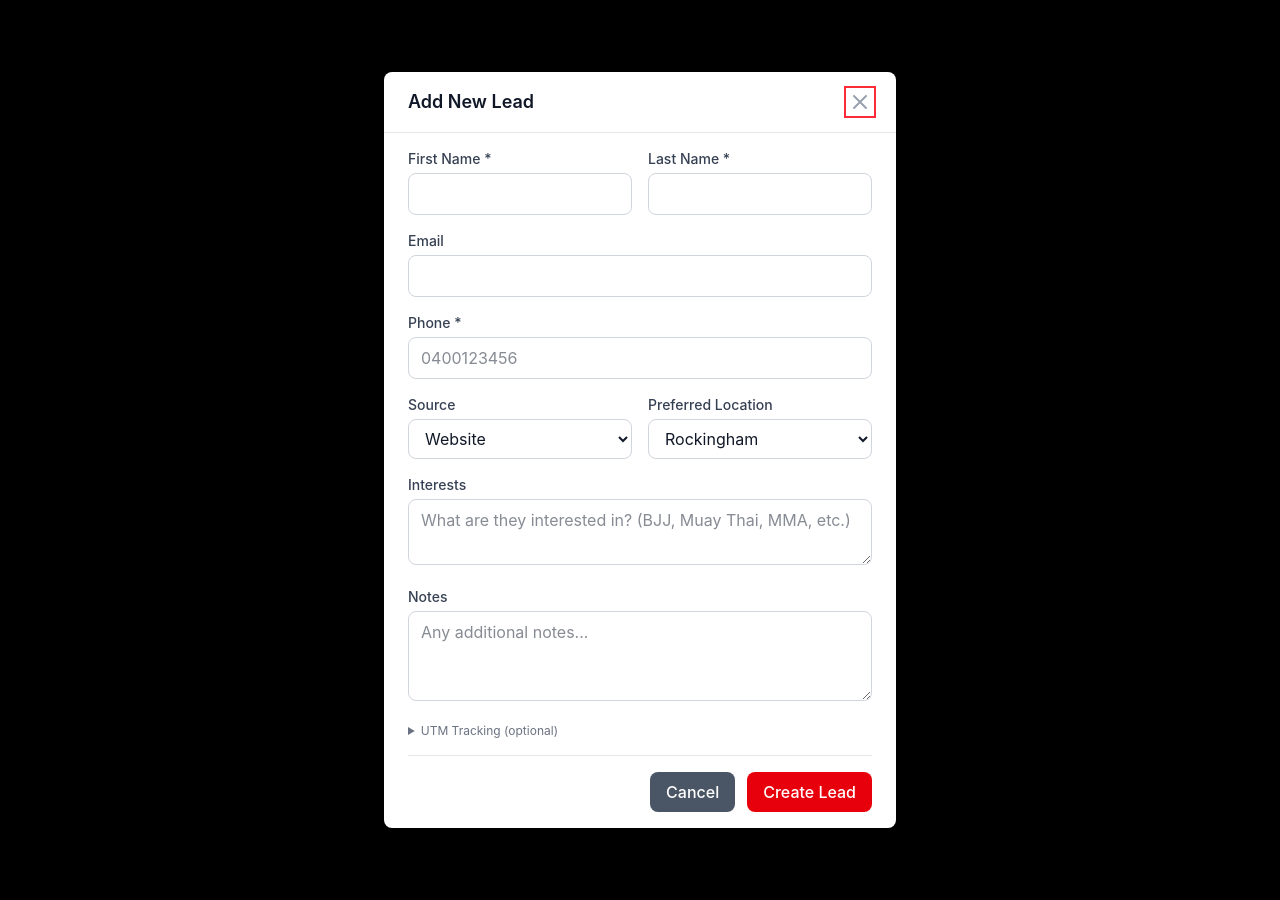
Test: AddLeadModal › clears field error on change
Click the button "Create Lead". click: (810, 792)
box: [747, 772, 872, 812]
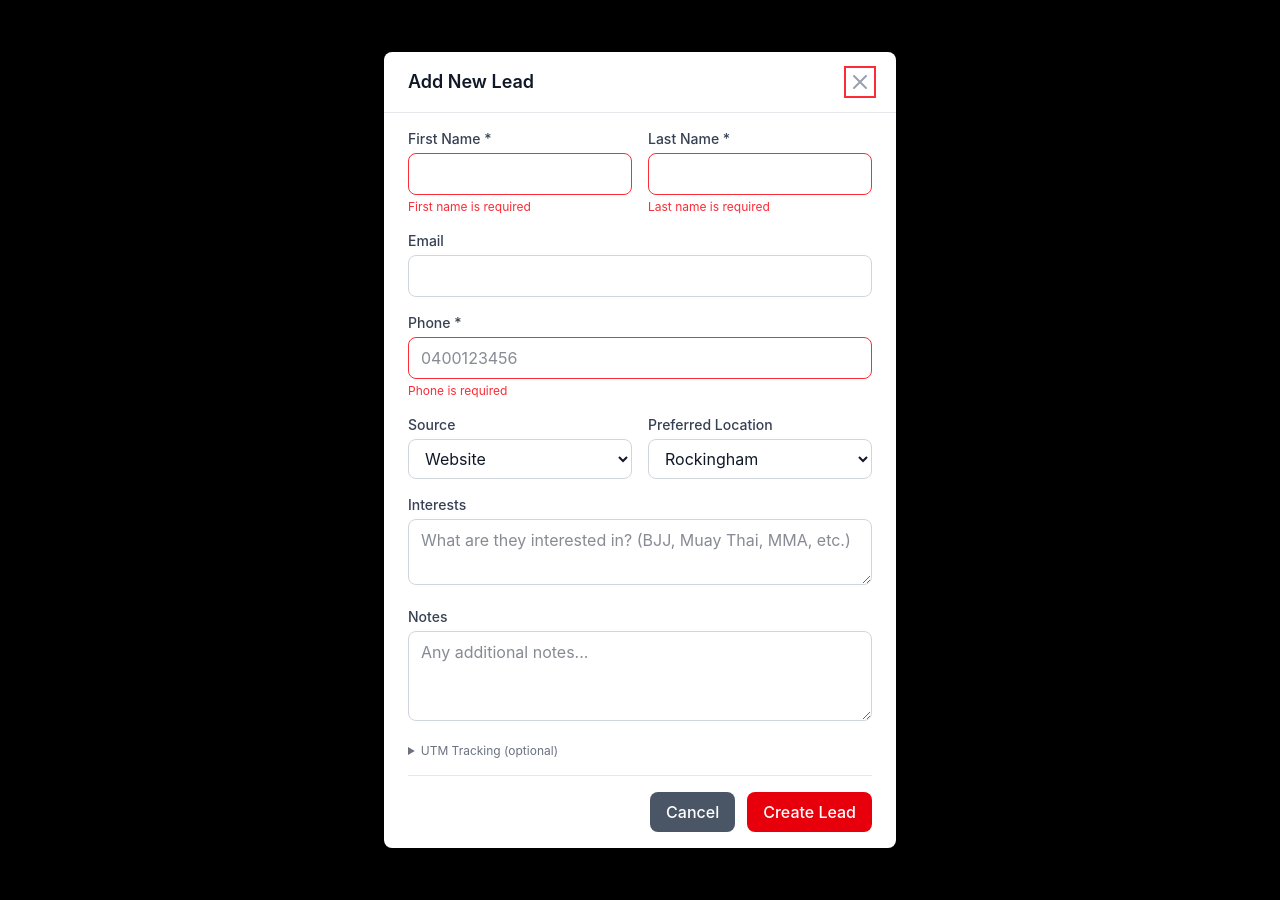
Expected: the text "First name is required" is shown, [408, 199, 531, 214]
Type "J" into the field named "first_name" below "First Name *". click: (520, 174)
box: [408, 153, 632, 195]
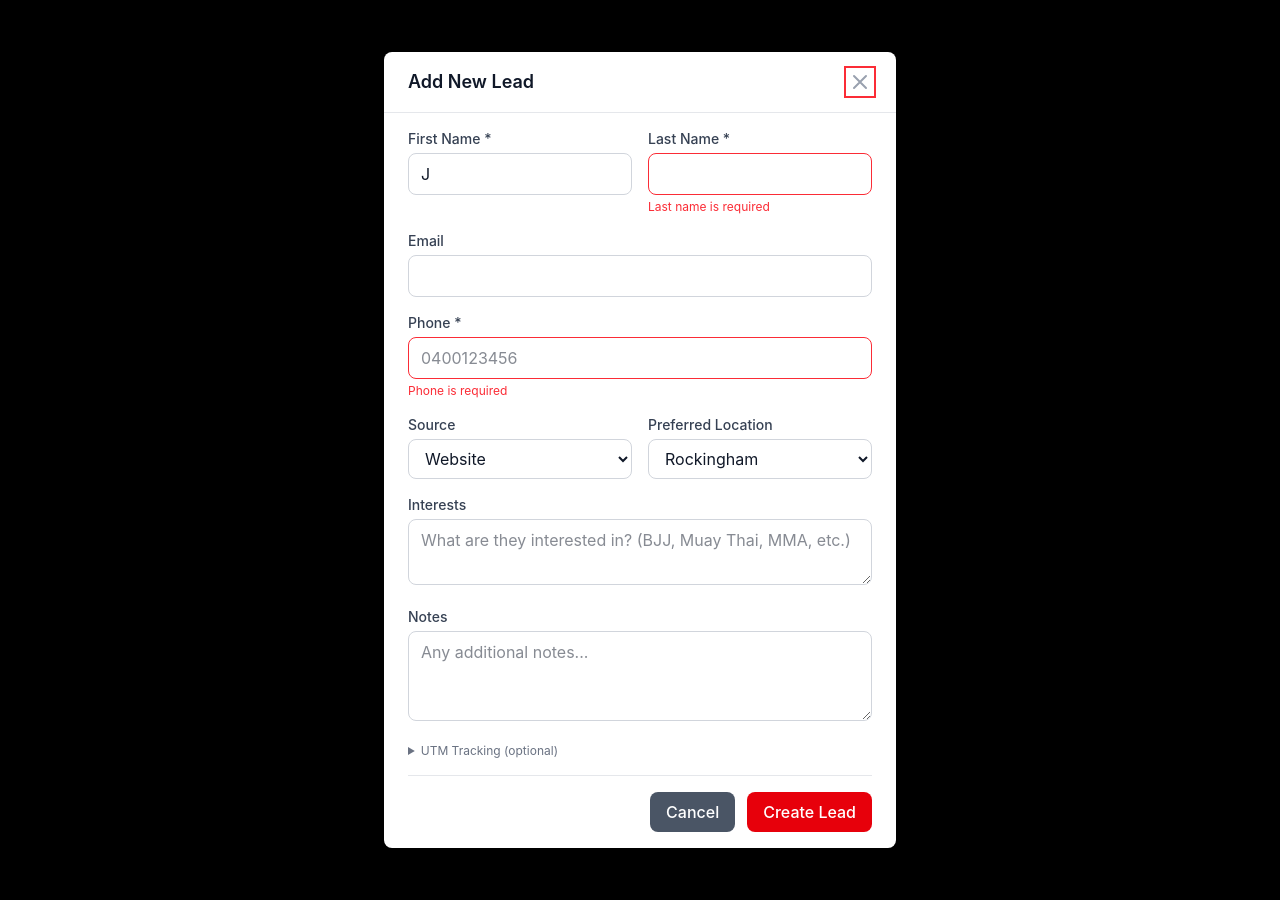
Expected: the text "First name is required" is gone
